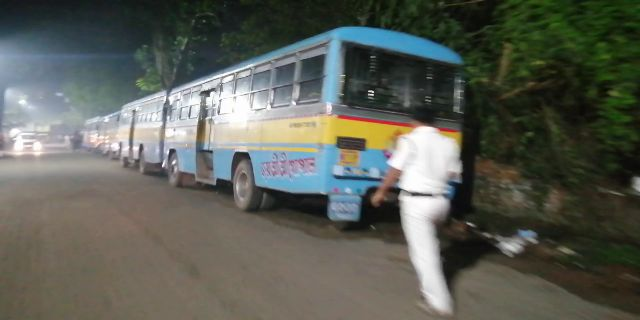Bus: (164, 36, 475, 209)
